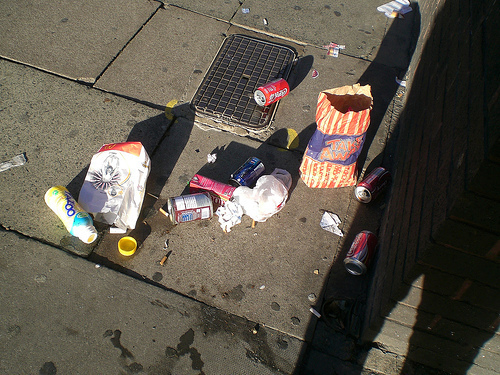litter: (297, 82, 373, 189), (77, 140, 150, 228), (43, 185, 98, 245), (250, 168, 292, 219), (159, 193, 213, 223), (345, 229, 380, 274), (354, 165, 393, 204), (187, 173, 235, 202), (230, 157, 264, 190), (253, 78, 290, 106), (214, 199, 244, 232), (376, 0, 413, 19), (320, 212, 344, 239), (0, 153, 26, 174), (117, 237, 139, 256), (325, 42, 345, 58), (308, 305, 320, 319), (110, 226, 125, 234), (159, 256, 167, 266)
